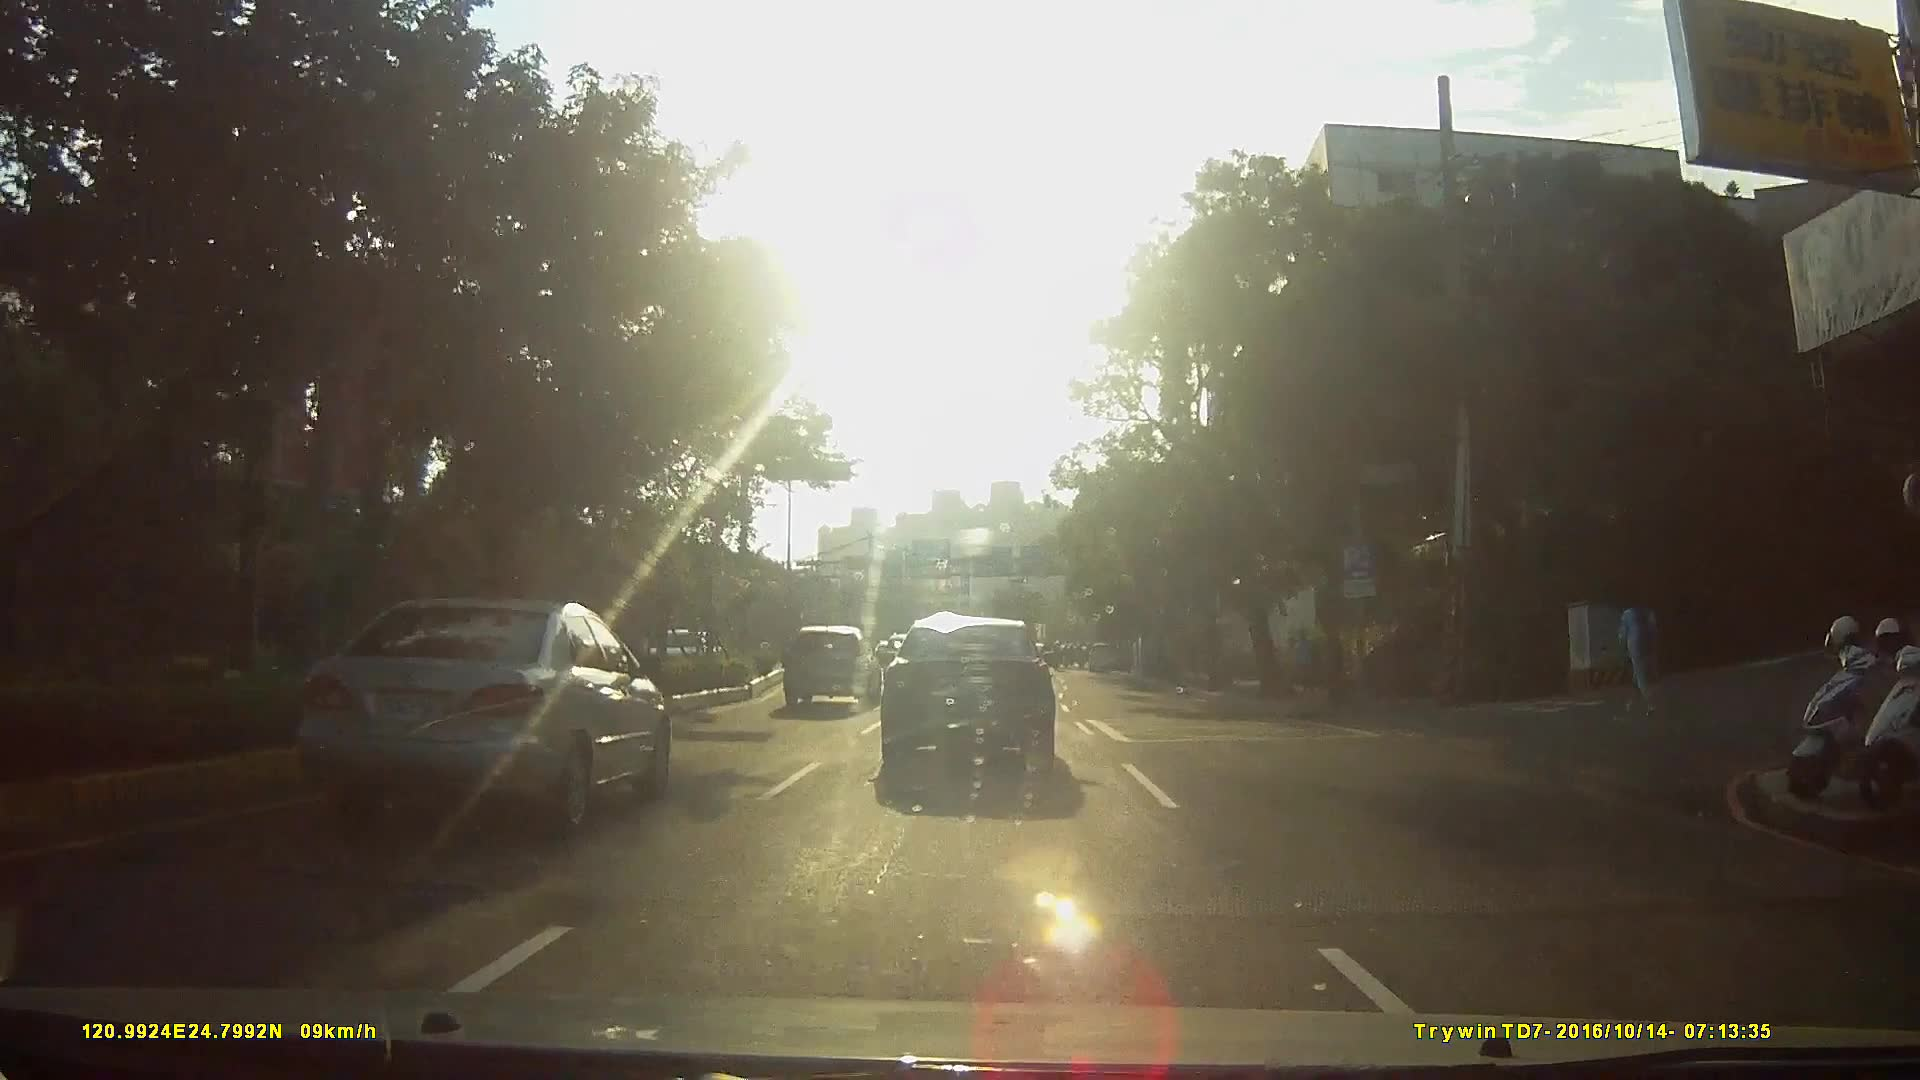pedestrian: (1619, 584, 1670, 715)
vehicle: (281, 594, 672, 832), (876, 615, 1078, 786), (781, 626, 882, 712), (1081, 642, 1115, 676)
